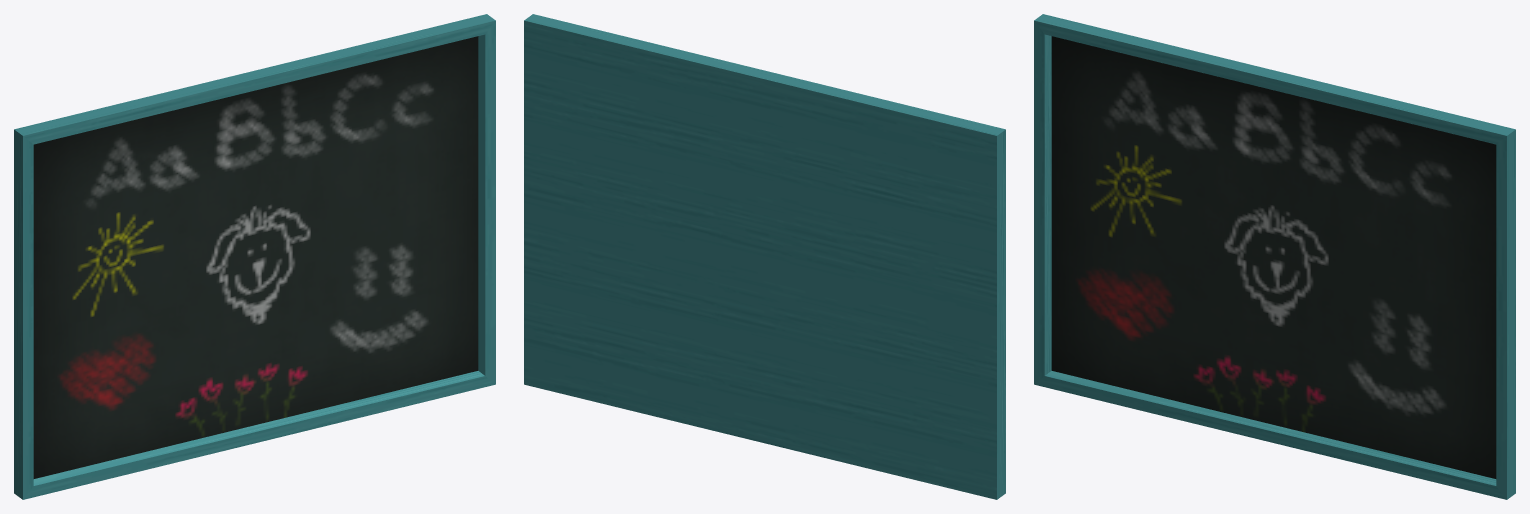
The model's file is Chalkboard_C.FBX.
The picture shows the model from 3 angles, left to right: view 1: azimuth 30°, elevation 25°; view 2: azimuth 150°, elevation 25°; view 3: azimuth 330°, elevation 25°; orthographic projection.
Visible parts, largest first — view 1: Chalk_Board; view 2: Chalk_Board; view 3: Chalk_Board.
Boxes of the visible parts, x1=… form: Chalk_Board: x1=14, y1=14, x2=495, y2=499; Chalk_Board: x1=524, y1=14, x2=1005, y2=499; Chalk_Board: x1=1034, y1=14, x2=1515, y2=499.
Size of the model in its own units: 143 by 105 by 4.7.
